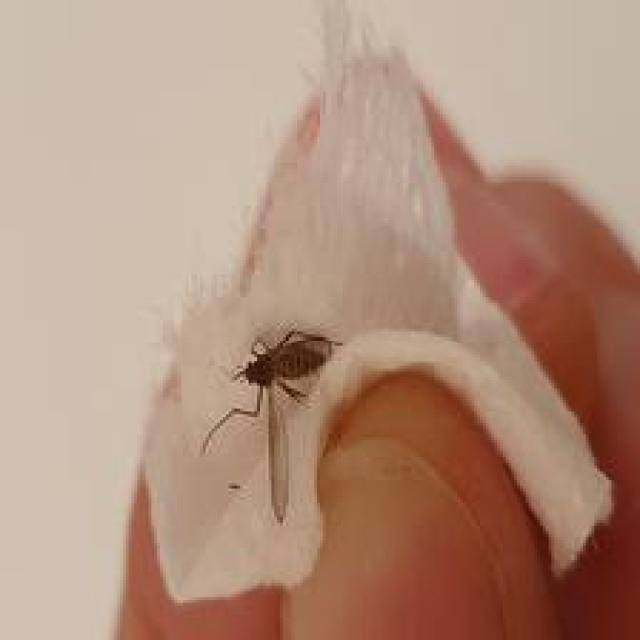Culex: (200, 327, 343, 524)
